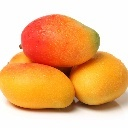mango: (20, 14, 100, 67), (1, 63, 75, 110)
